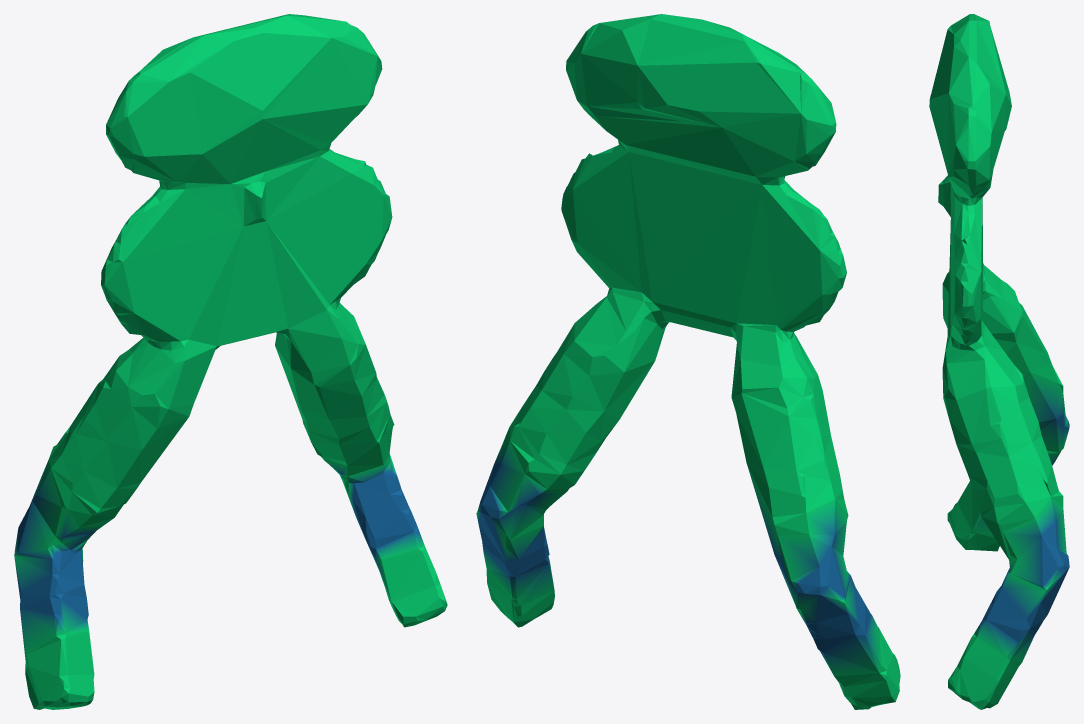
File: Robots and Humanoids.glb
The picture shows the model from 3 angles, left to right: view 1: azimuth 30°, elevation 25°; view 2: azimuth 150°, elevation 25°; view 3: azimuth 270°, elevation 25°; orthographic projection. The views are drawn at different scales.
Visible parts, largest first — view 1: Root; view 2: Root; view 3: Root.
Part boxes in pixels (<box>): Root: <box>14,14,447,709</box>; Root: <box>476,14,900,709</box>; Root: <box>929,14,1069,709</box>.
Size of the model in its own units: 1.94 by 2.92 by 0.63.
